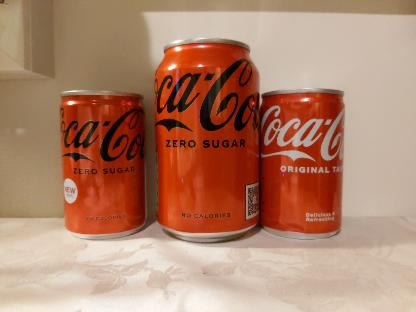Can: (154, 37, 260, 244), (59, 90, 147, 239), (261, 86, 345, 240)
